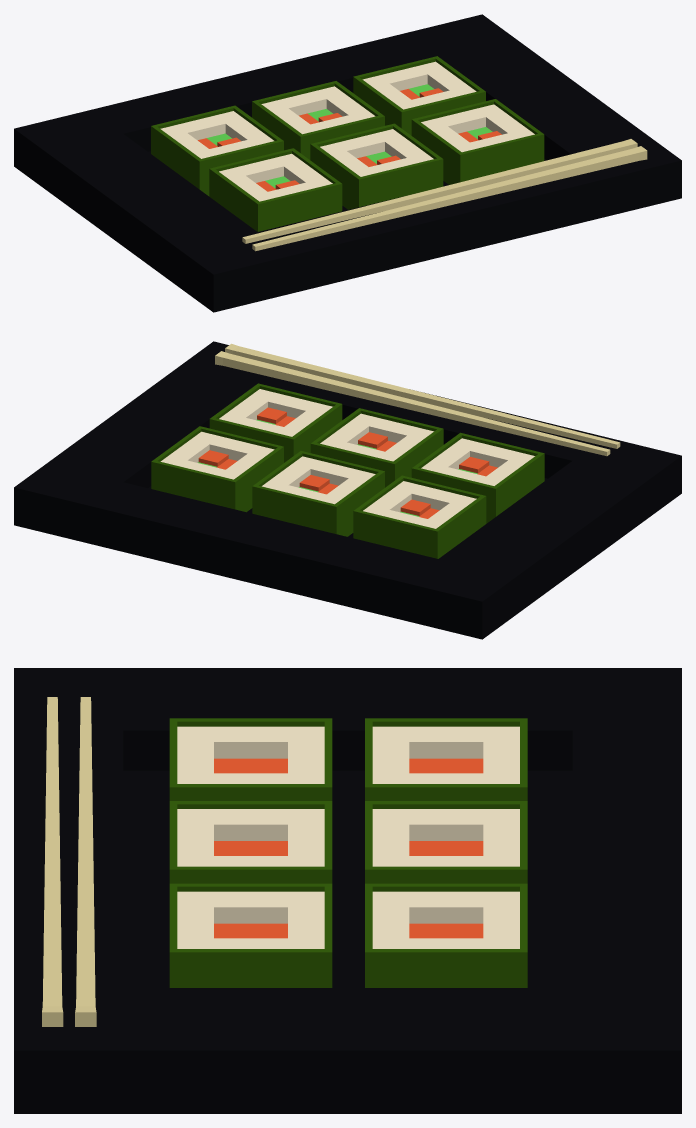
Rendered from Sushi.fbx.
The picture shows the model from 3 angles, top to bottom: view 1: azimuth 30°, elevation 25°; view 2: azimuth 150°, elevation 25°; view 3: azimuth 270°, elevation 25°; orthographic projection. The views are drawn at different scales.
Visible parts, largest first — view 1: Plate, Sushi, Chopstick.001, Chopstick; view 2: Plate, Sushi, Chopstick, Chopstick.001; view 3: Plate, Sushi, Chopstick, Chopstick.001.
Part boxes in pixels (x1,y1,x2,y2): Plate: (14,14,681,312); Sushi: (151,56,544,231); Chopstick.001: (252,146,647,251); Chopstick: (242,139,637,243); Plate: (14,341,681,639); Sushi: (151,383,544,558); Chopstick: (215,351,610,456); Chopstick.001: (225,343,620,448); Plate: (14,668,681,1113); Sushi: (169,718,527,987); Chopstick: (75,697,96,1026); Chopstick.001: (42,697,63,1026).
Size of the model in its own units: 1245 by 132 by 919.
